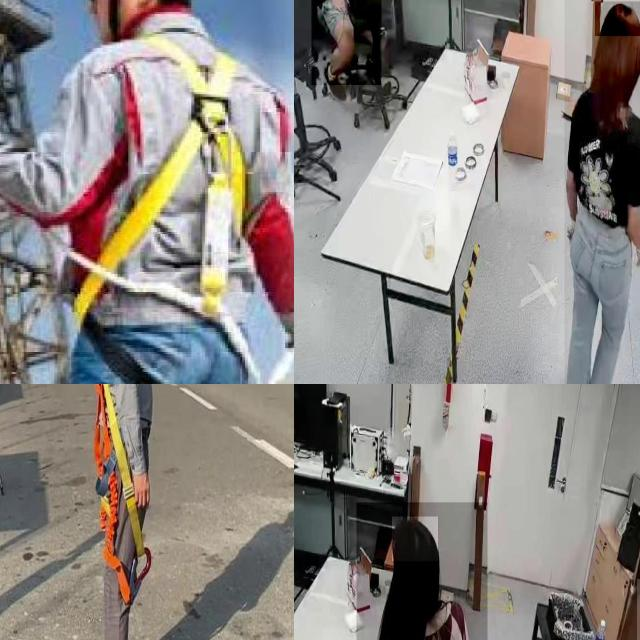Harness: (58, 37, 253, 384), (94, 384, 152, 606)
hand_noglove: (328, 0, 347, 14)
head_nohelmet: (392, 517, 438, 561), (595, 1, 640, 36)
person: (564, 0, 640, 384), (356, 502, 487, 640), (311, 0, 382, 86)
